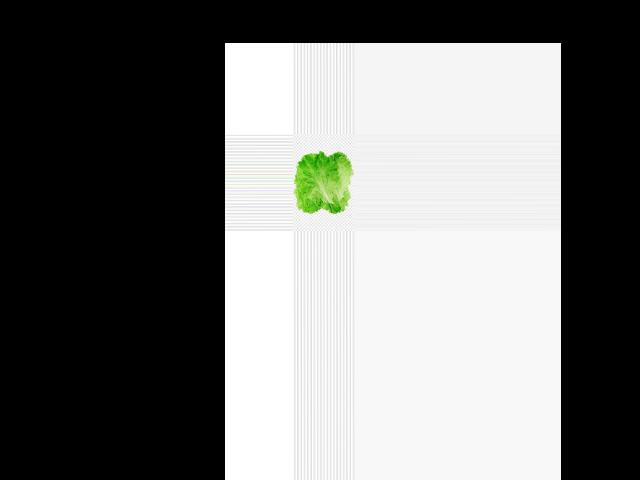lettuce: (292, 146, 354, 218)
